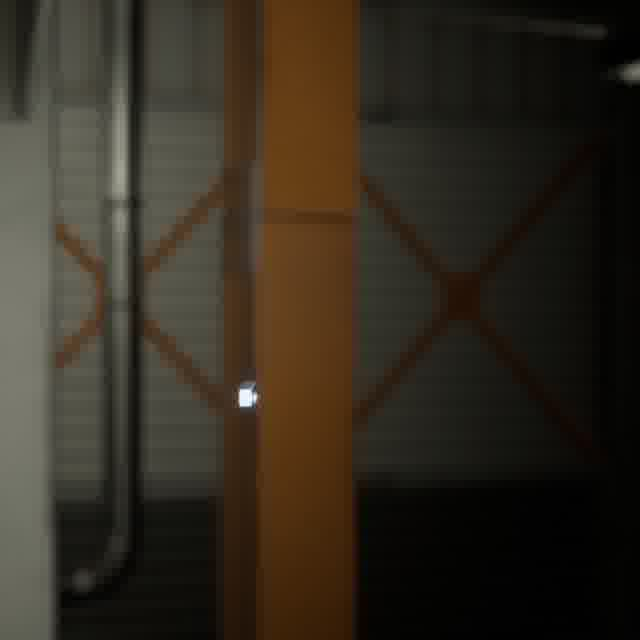nut: (234, 376, 262, 416)
